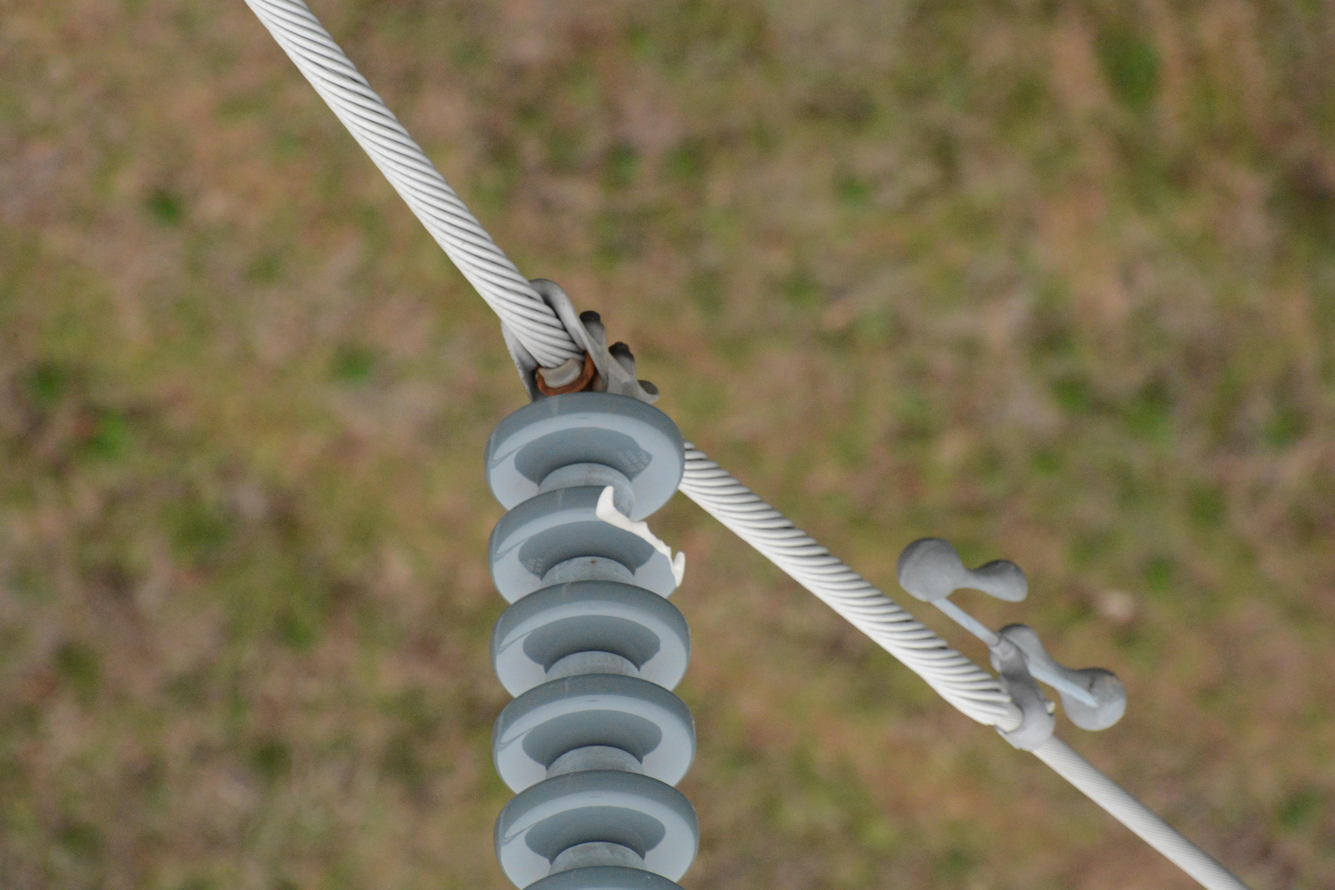damaged: (581, 477, 690, 587)
hammer: (897, 535, 1130, 748)
insulator: (484, 394, 701, 890)
